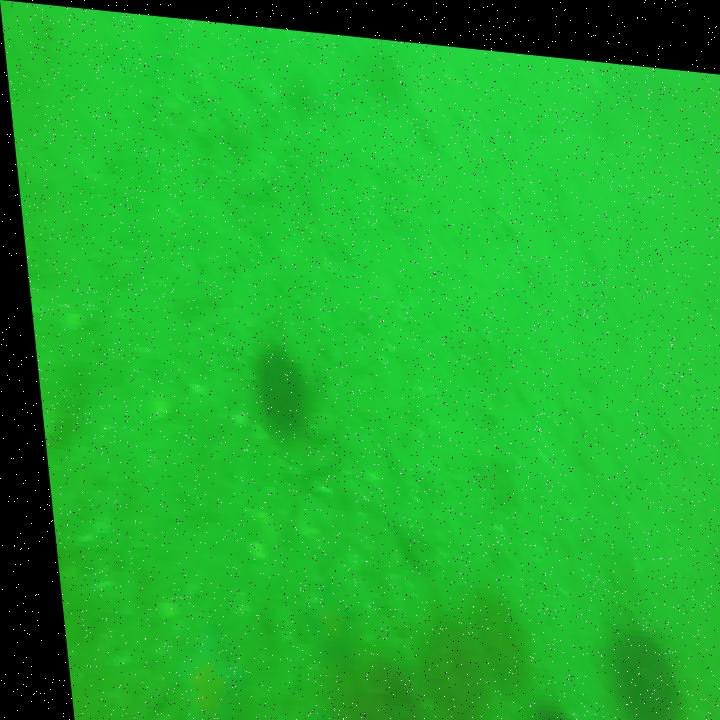echinus: (392, 599, 473, 715), (606, 614, 670, 720), (321, 648, 405, 720), (239, 337, 304, 430), (463, 579, 516, 666), (360, 37, 401, 99), (513, 693, 576, 720)
starfish: (159, 634, 236, 720), (293, 582, 351, 662)
